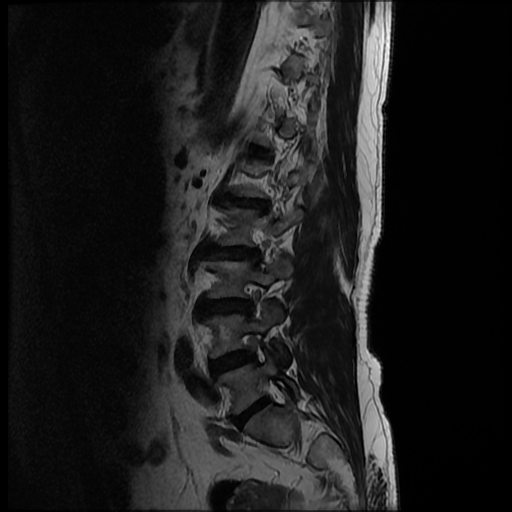LFS1: (234, 324, 279, 373), (233, 270, 272, 323)
